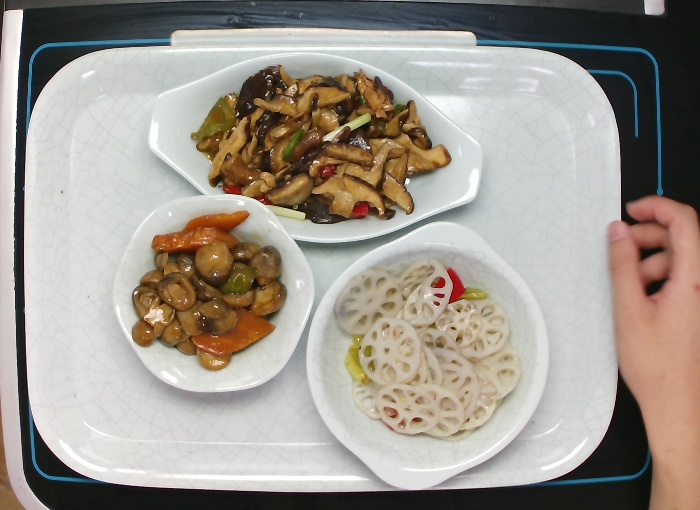JYsf-Shuang_Er_Wan: (300, 220, 551, 491)
JYsf-Yu_Pan: (143, 50, 492, 243)
WCQzf-Hua_Duo_Wan: (112, 188, 315, 400)
